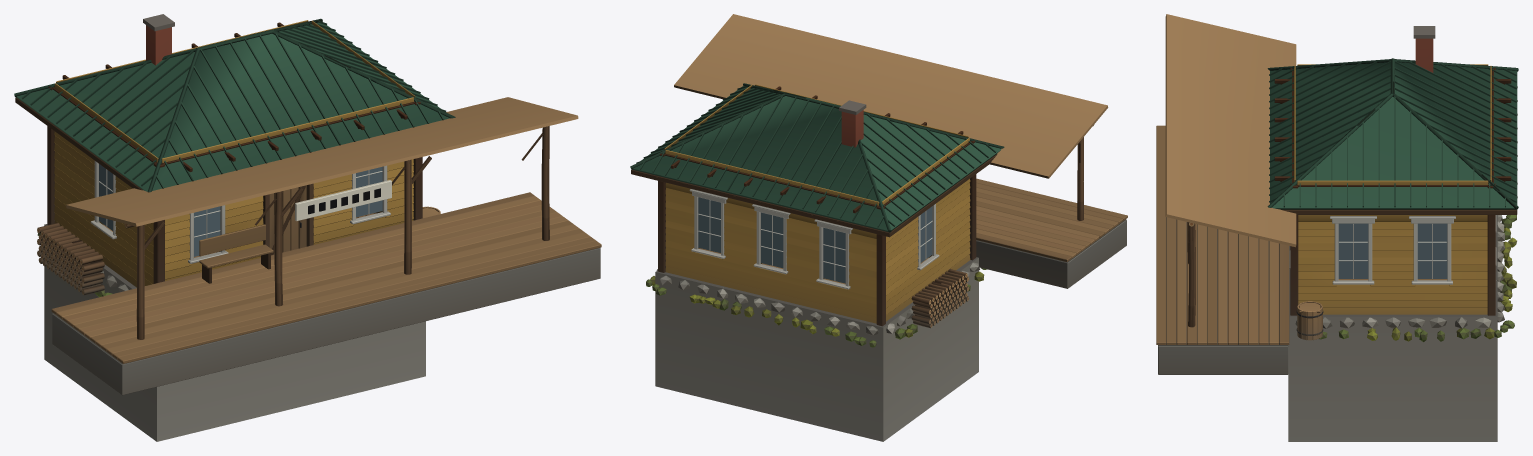
File: istasyon.glb
The picture shows the model from 3 angles, left to right: view 1: azimuth 30°, elevation 25°; view 2: azimuth 150°, elevation 25°; view 3: azimuth 270°, elevation 25°; orthographic projection. The views are drawn at different scales.
Parts seen in each view (by area): view 1: plank-platform-031, shingle-roof-001, stone-plinth-001, shingle-canopy-006, shingle-roof-003, plank-wall-003, wood-pile-002, plank-wall-018, plank-wall-010, shingle-ridge-005, shingle-roof-004, plank-wall-002 (+20 smaller); view 2: stone-plinth-001, shingle-canopy-006, shingle-roof-002, plank-platform-031, shingle-roof-003, plank-wall-006, plank-wall-007, plank-wall-018, plank-wall-008, stone-found-003, plank-wall-010, plank-wall-011 (+17 smaller); view 3: stone-plinth-001, shingle-canopy-006, plank-platform-031, shingle-roof-004, shingle-roof-002, shingle-roof-001, plank-wall-014, plank-wall-015, plank-wall-016, plank-wall-018, shingle-ridge-005, stone-found-005 (+11 smaller).
Part boxes in pixels (left/top/right/bottom): plank-platform-031: left=51, top=192, right=601, bottom=395; shingle-roof-001: left=152, top=33, right=449, bottom=190; stone-plinth-001: left=44, top=224, right=425, bottom=441; shingle-canopy-006: left=66, top=97, right=578, bottom=226; shingle-roof-003: left=16, top=50, right=194, bottom=191; plank-wall-003: left=165, top=165, right=413, bottom=264; wood-pile-002: left=37, top=223, right=104, bottom=295; plank-wall-018: left=47, top=86, right=422, bottom=283; plank-wall-010: left=54, top=190, right=153, bottom=287; shingle-ridge-005: left=14, top=18, right=455, bottom=192; shingle-roof-004: left=274, top=20, right=446, bottom=111; plank-wall-002: left=165, top=204, right=413, bottom=281; stone-plinth-001: left=655, top=257, right=978, bottom=441; shingle-canopy-006: left=674, top=14, right=1108, bottom=178; shingle-roof-002: left=632, top=95, right=888, bottom=231; plank-platform-031: left=976, top=178, right=1127, bottom=288; shingle-roof-003: left=861, top=113, right=1001, bottom=230; plank-wall-006: left=665, top=240, right=876, bottom=323; plank-wall-007: left=665, top=207, right=876, bottom=291; plank-wall-018: left=658, top=140, right=976, bottom=326; plank-wall-008: left=665, top=183, right=876, bottom=258; stone-found-003: left=652, top=275, right=878, bottom=347; plank-wall-010: left=886, top=228, right=970, bottom=321; plank-wall-011: left=886, top=195, right=970, bottom=288; stone-plinth-001: left=1288, top=215, right=1497, bottom=441; shingle-canopy-006: left=1165, top=14, right=1296, bottom=247; plank-platform-031: left=1156, top=125, right=1289, bottom=374; shingle-roof-004: left=1272, top=96, right=1515, bottom=209; shingle-roof-002: left=1394, top=61, right=1517, bottom=209; shingle-roof-001: left=1269, top=61, right=1390, bottom=203; plank-wall-014: left=1298, top=279, right=1487, bottom=314; plank-wall-015: left=1298, top=243, right=1487, bottom=279; plank-wall-016: left=1298, top=215, right=1487, bottom=243; plank-wall-018: left=1290, top=67, right=1495, bottom=315; shingle-ridge-005: left=1267, top=58, right=1518, bottom=209; stone-found-005: left=1295, top=317, right=1501, bottom=341.
Bounding box in the file's own units: 13 × 9.06 × 9.18.
